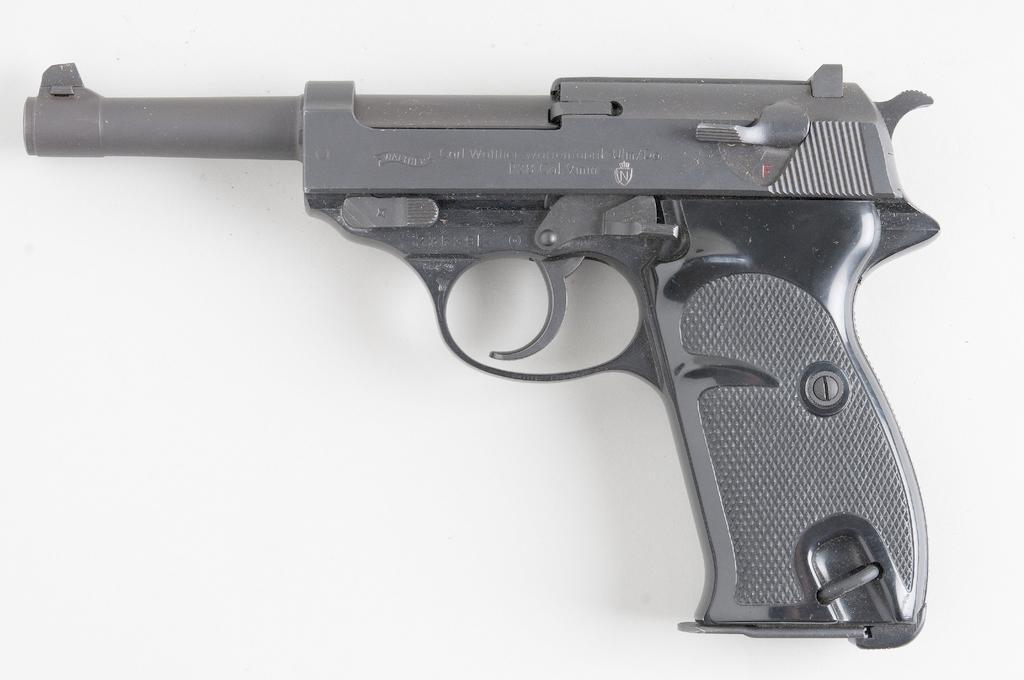gun: (32, 57, 930, 646)
